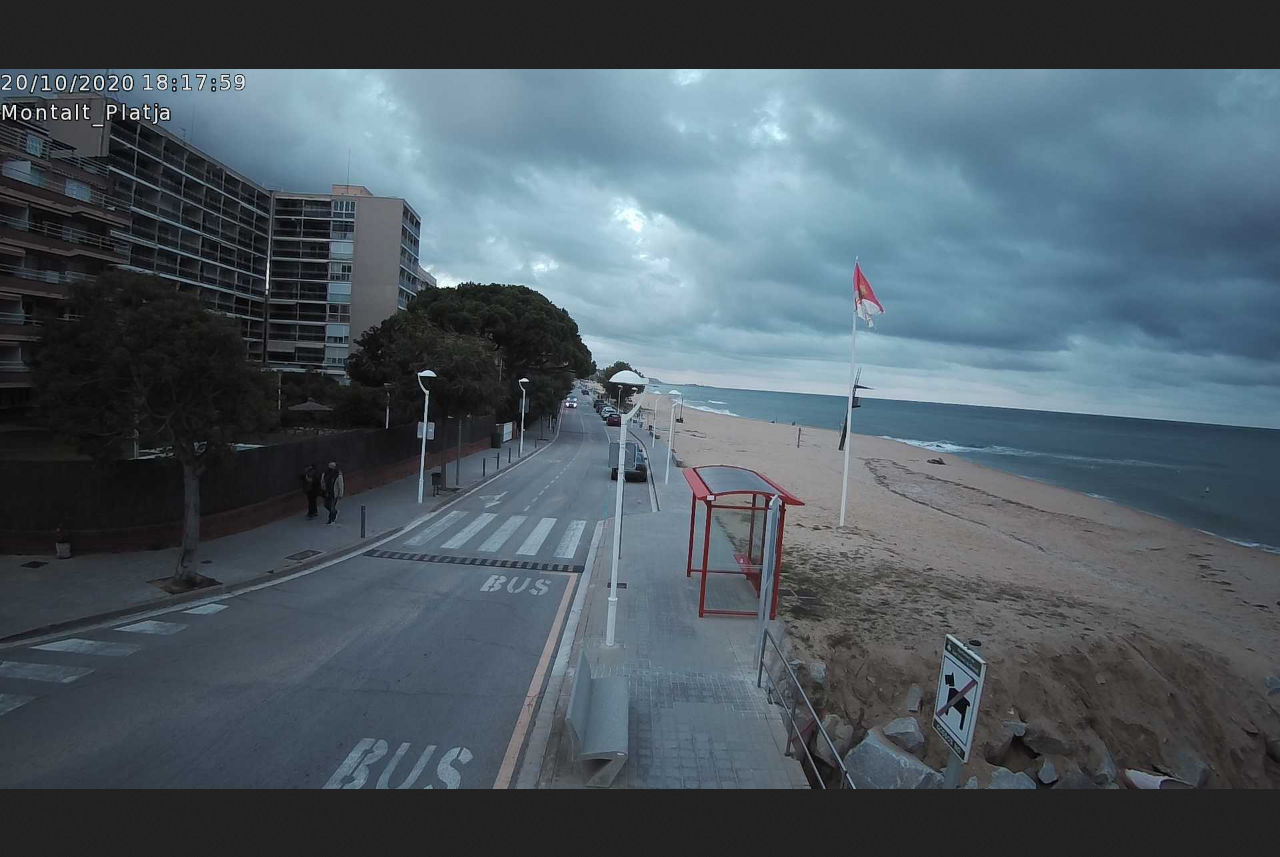maybe: (851, 263, 887, 333)
